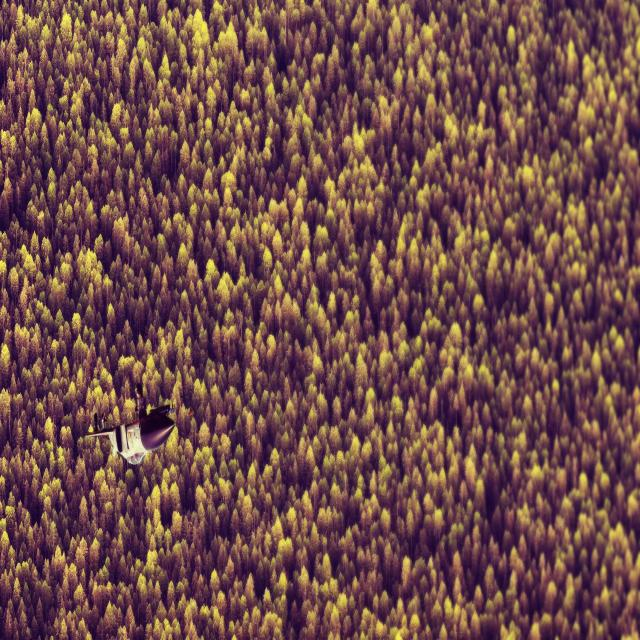airplane: (82, 383, 176, 466)
